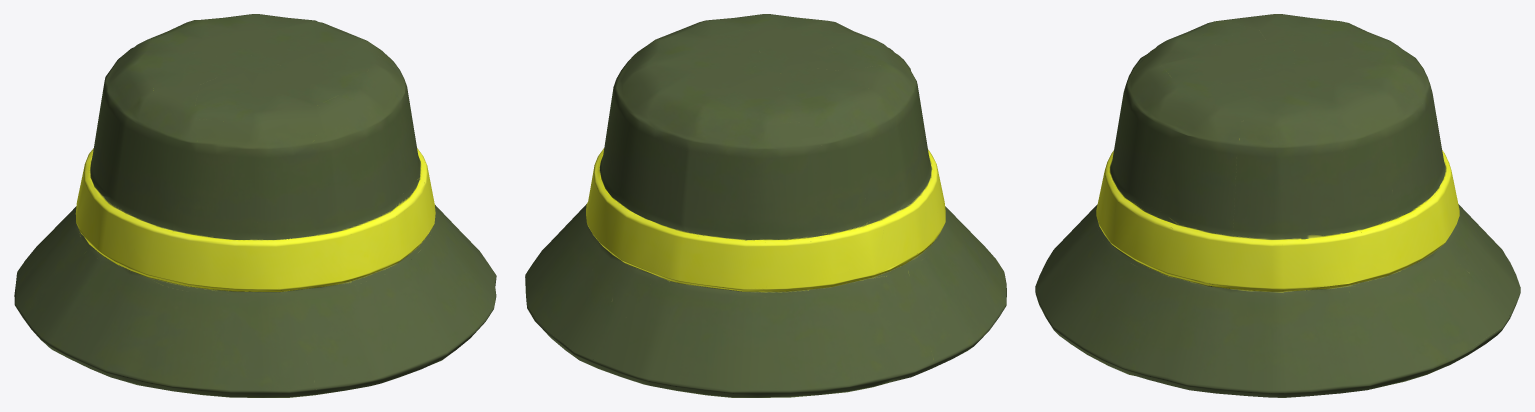
Rendered from street_bucket_hat.glb.
The picture shows the model from 3 angles, left to right: view 1: azimuth 30°, elevation 25°; view 2: azimuth 150°, elevation 25°; view 3: azimuth 270°, elevation 25°; orthographic projection.
Visible parts, largest first — view 1: geometry_0; view 2: geometry_0; view 3: geometry_0.
Boxes of the visible parts, x1,y1,x2,y2 form: geometry_0: (14,14,496,397); geometry_0: (525,14,1006,397); geometry_0: (1035,14,1520,397).
Bounding box in the file's own units: 0.9473 × 0.5103 × 0.9463.
Materials: 1 (1 with a texture image).
